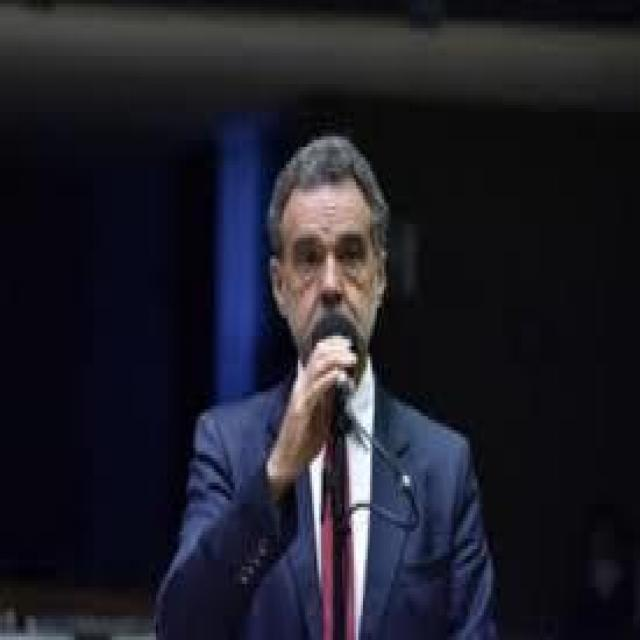person: (165, 101, 498, 636)
